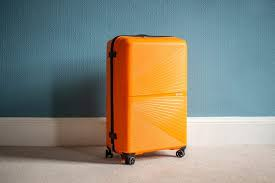suitcase: (98, 31, 193, 166)
